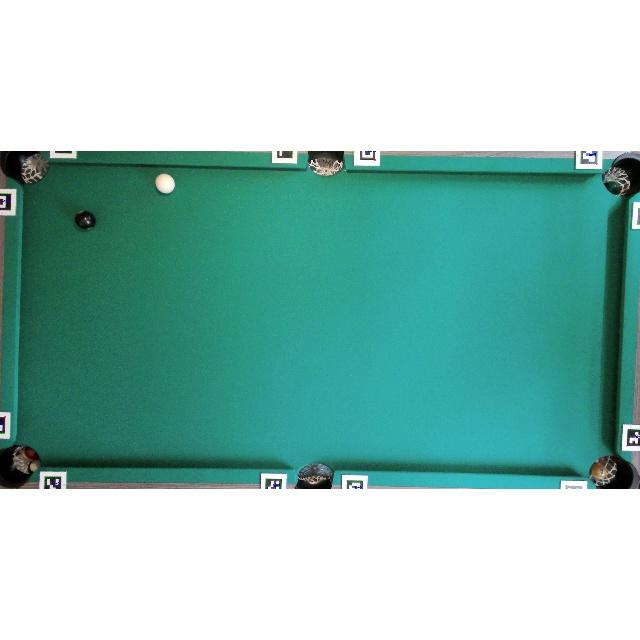cue ball: (154, 173, 176, 194)
other: (74, 209, 96, 230)
